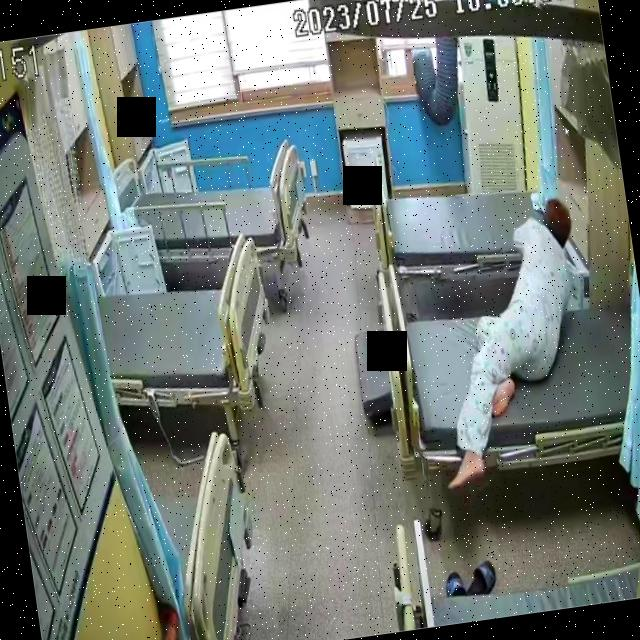bed: (397, 283, 640, 488), (90, 230, 286, 430), (111, 135, 312, 281), (369, 150, 565, 295)
danger: (408, 194, 608, 494)
patient: (410, 196, 608, 494)
